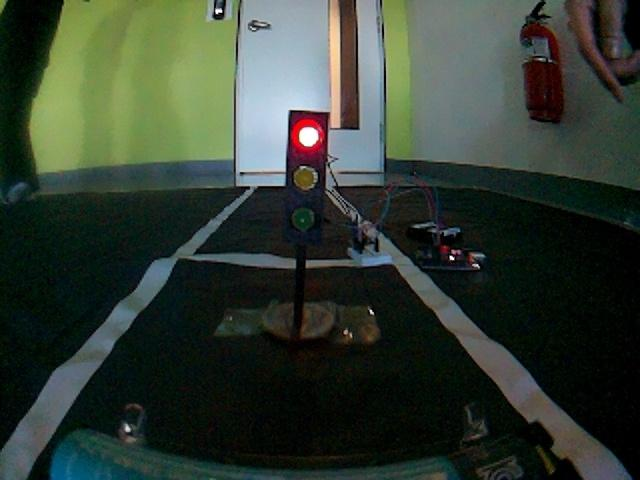go: (1, 367, 640, 480)
red_light: (219, 100, 397, 362)
